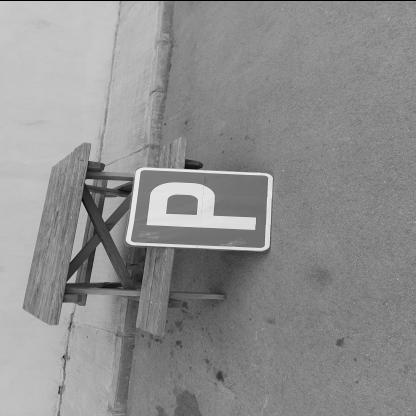Parking-Sign: (127, 168, 276, 253)
